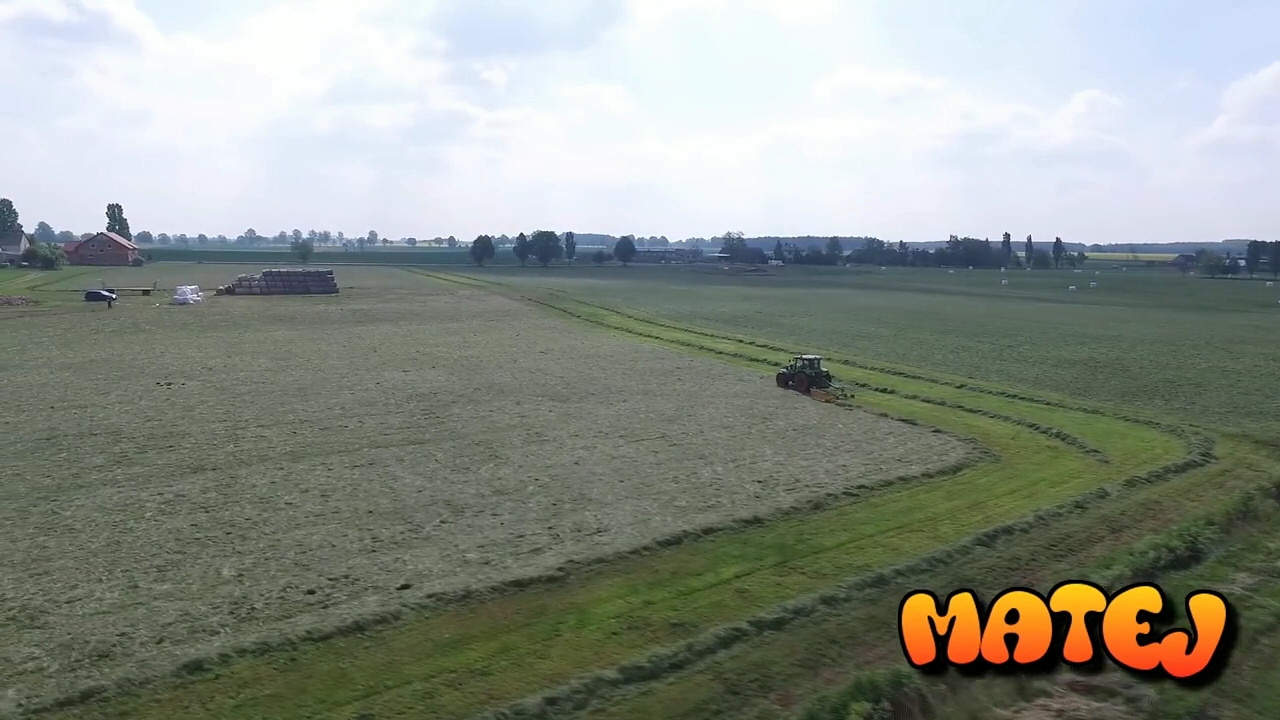araba: (82, 284, 120, 301)
traktor: (773, 343, 831, 398)
